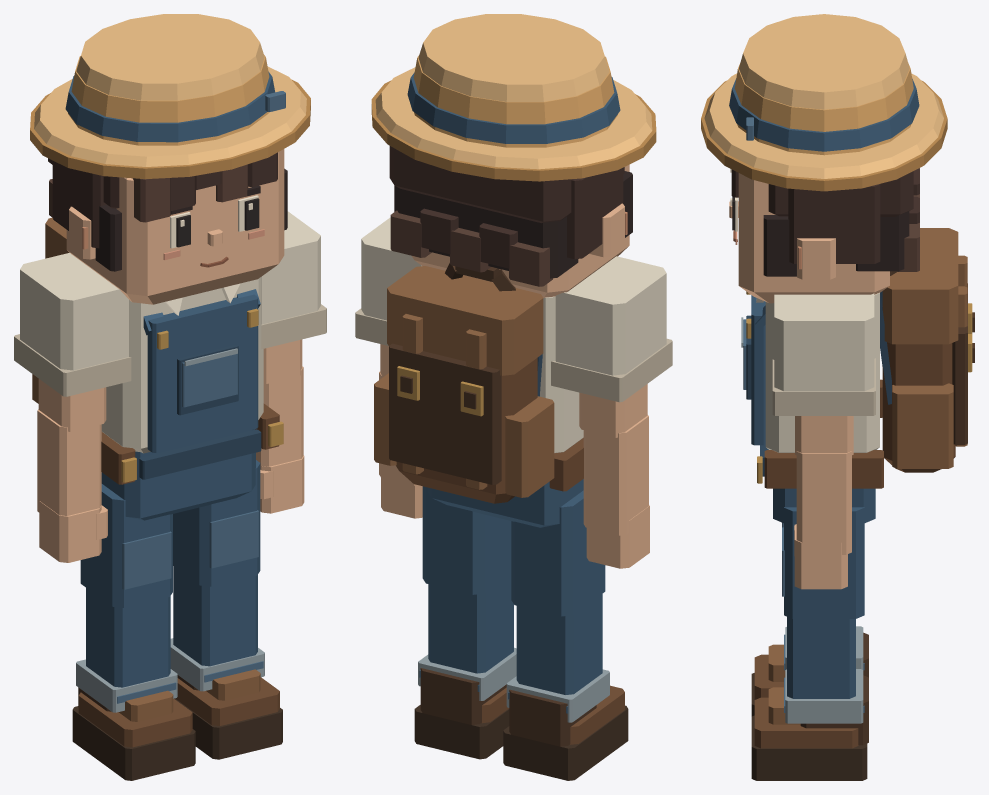
File: player_character.glb
3 renders of one model, left to right at view 1: azimuth 30°, elevation 25°; view 2: azimuth 150°, elevation 25°; view 3: azimuth 270°, elevation 25°, orthographic.
Parts seen in each view (by area): view 1: Hat_straw_light.003, Head_skin.003, Spine_denim.003, Arm_L_shirt.003, Shin_L_denim.003, Shin_R_denim.003, Hips_denim.003, Spine_shirt.003, Forearm_L_skin.003, Hat_straw.003, Head_hair.003, Thigh_L_denim.003 (+31 smaller); view 2: Hat_straw_light.003, Backpack_leather_light.003, Backpack_leather_dark.003, Head_hair.003, Arm_L_shirt.003, Thigh_L_denim.003, Thigh_R_denim.003, Shin_L_denim.003, Shin_R_denim.003, Forearm_L_skin.003, Hat_straw.003, Head_hair_dark.003 (+23 smaller); view 3: Hat_straw_light.003, Backpack_leather_light.003, Arm_R_shirt.003, Head_hair.003, Head_skin.003, Shin_R_denim.003, Forearm_R_skin.003, Hat_straw.003, Thigh_R_denim.003, Hat_denim.003, Foot_R_sole.003, Hat_straw_shadow.003 (+18 smaller).
Boxes of the visible parts, <box> form: Hat_straw_light.003: <box>34,14,306,166</box>; Head_skin.003: <box>66,149,284,304</box>; Spine_denim.003: <box>143,289,260,452</box>; Arm_L_shirt.003: <box>20,252,128,370</box>; Shin_L_denim.003: <box>86,588,170,687</box>; Shin_R_denim.003: <box>173,566,257,666</box>; Hips_denim.003: <box>101,429,255,520</box>; Spine_shirt.003: <box>101,277,263,453</box>; Forearm_L_skin.003: <box>37,409,101,515</box>; Hat_straw.003: <box>68,55,269,145</box>; Head_hair.003: <box>48,152,277,248</box>; Thigh_L_denim.003: <box>80,484,172,607</box>; Hat_straw_light.003: <box>375,14,652,169</box>; Backpack_leather_light.003: <box>374,266,554,497</box>; Backpack_leather_dark.003: <box>389,263,515,484</box>; Head_hair.003: <box>389,146,624,268</box>; Arm_L_shirt.003: <box>555,256,666,375</box>; Thigh_L_denim.003: <box>511,490,605,616</box>; Thigh_R_denim.003: <box>422,486,511,594</box>; Shin_L_denim.003: <box>516,594,602,694</box>; Shin_R_denim.003: <box>428,574,513,673</box>; Forearm_L_skin.003: <box>583,415,648,535</box>; Hat_straw.003: <box>413,55,617,147</box>; Head_hair_dark.003: <box>395,171,632,278</box>; Hat_straw_light.003: <box>704,14,943,178</box>; Backpack_leather_light.003: <box>883,228,967,468</box>; Arm_R_shirt.003: <box>774,293,874,391</box>; Head_hair.003: <box>731,168,919,263</box>; Head_skin.003: <box>729,173,889,303</box>; Shin_R_denim.003: <box>787,617,855,698</box>; Forearm_R_skin.003: <box>796,451,851,554</box>; Hat_straw.003: <box>734,63,913,155</box>; Thigh_R_denim.003: <box>784,507,864,618</box>; Hat_denim.003: <box>729,78,919,151</box>; Foot_R_sole.003: <box>751,715,867,780</box>; Hat_straw_shadow.003: <box>701,80,947,191</box>.
Bounding box in the file's own units: 0.64 × 1.59 × 0.5745.
